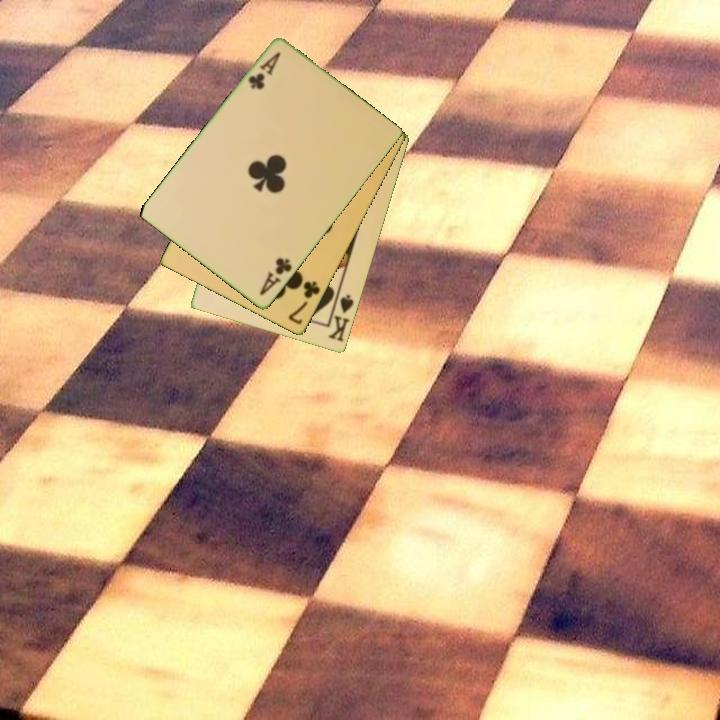7c: (285, 278, 323, 328)
Ac: (244, 49, 284, 93), (256, 254, 295, 299)
Ks: (325, 291, 357, 345)
